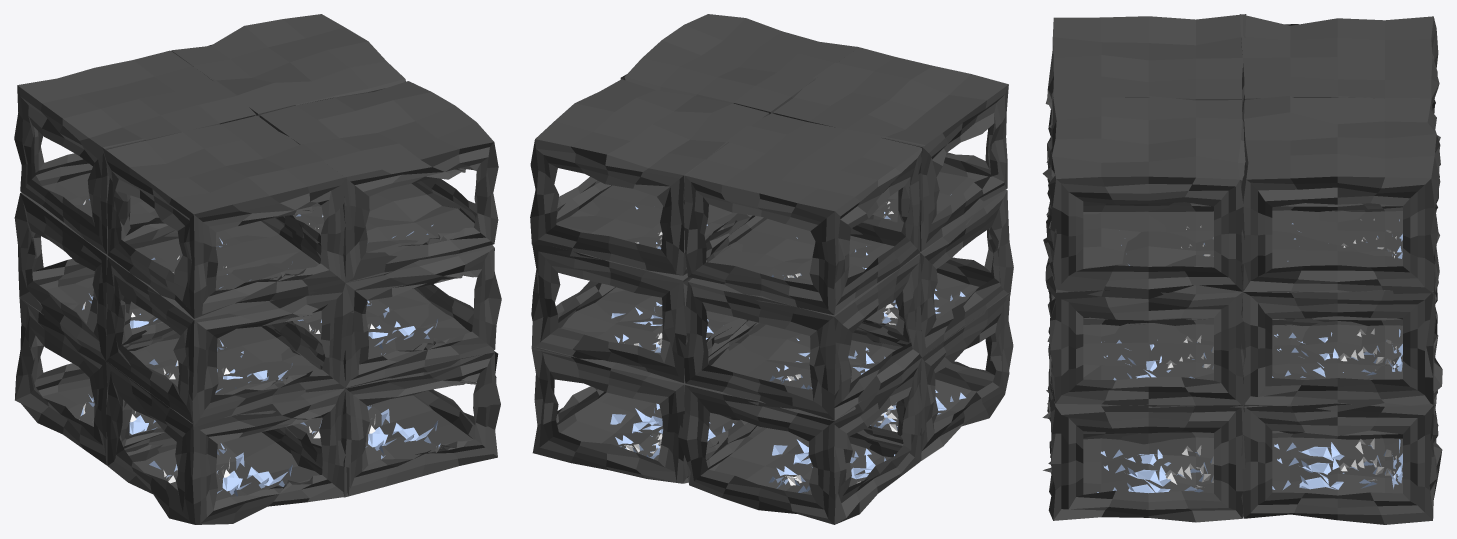
The model's file is DestroyedBuilding.glb.
3 renders of one model, left to right at view 1: azimuth 30°, elevation 25°; view 2: azimuth 150°, elevation 25°; view 3: azimuth 270°, elevation 25°, orthographic. The views are drawn at different scales.
Visible parts, largest first — view 1: BuildingBlockDestroyed, BrokenWindow3; view 2: BuildingBlockDestroyed, BrokenWindow3; view 3: BuildingBlockDestroyed, BrokenWindow3.
Part boxes in pixels (box(x1,y1,x2,y2)): BuildingBlockDestroyed: box(14, 14, 501, 524); BrokenWindow3: box(80, 199, 440, 496); BuildingBlockDestroyed: box(530, 14, 1013, 524); BrokenWindow3: box(610, 194, 965, 492); BuildingBlockDestroyed: box(1042, 14, 1442, 524); BrokenWindow3: box(1097, 218, 1402, 493).
Bounding box in the file's own units: 12.52 × 12.26 × 12.57.
